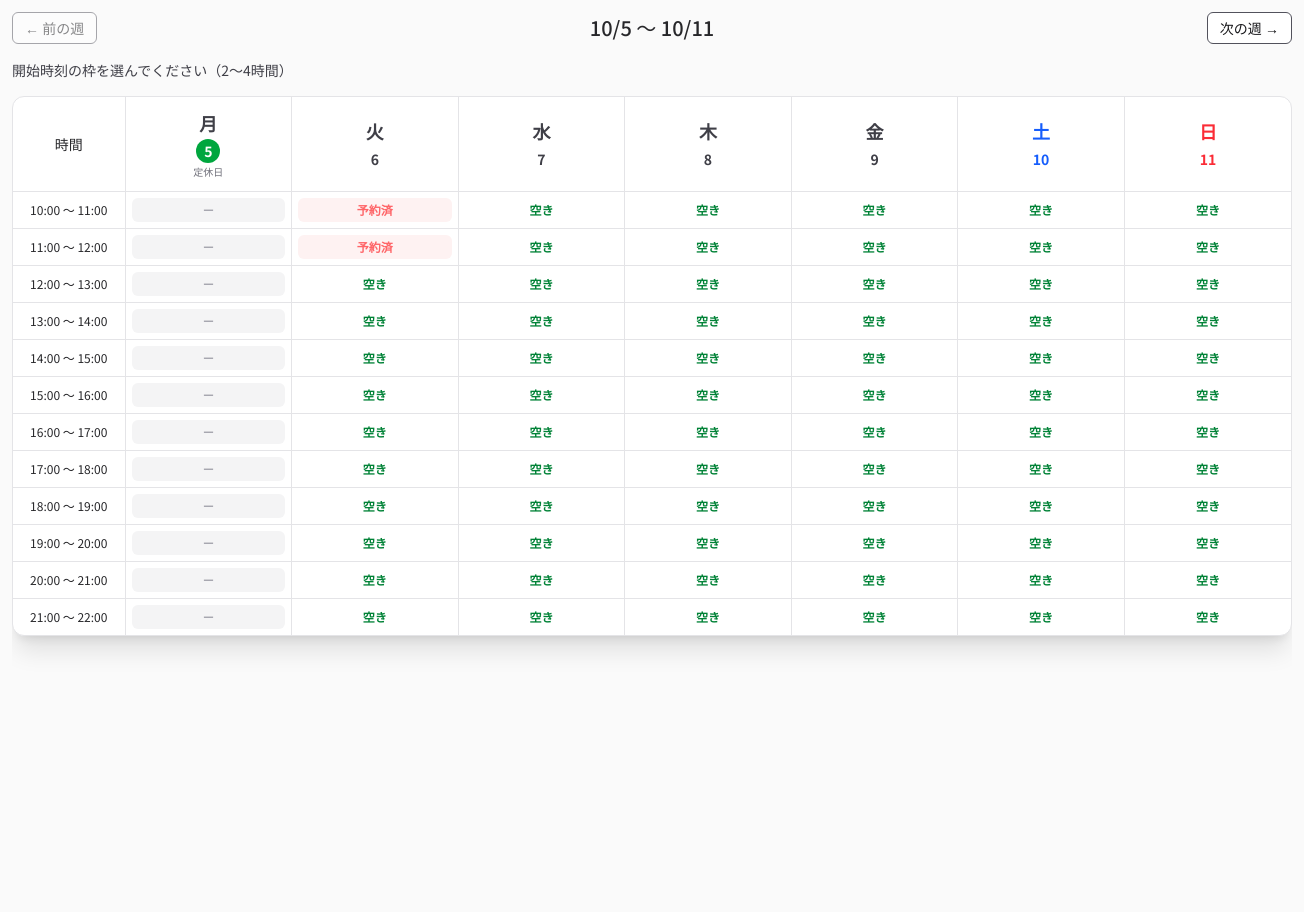
週送り › 次の週へ進むと、その週を出し、前の週へ戻れる
Step 1. Click the button "次の週 →" → [1249, 28], box [1207,12,1292,44]
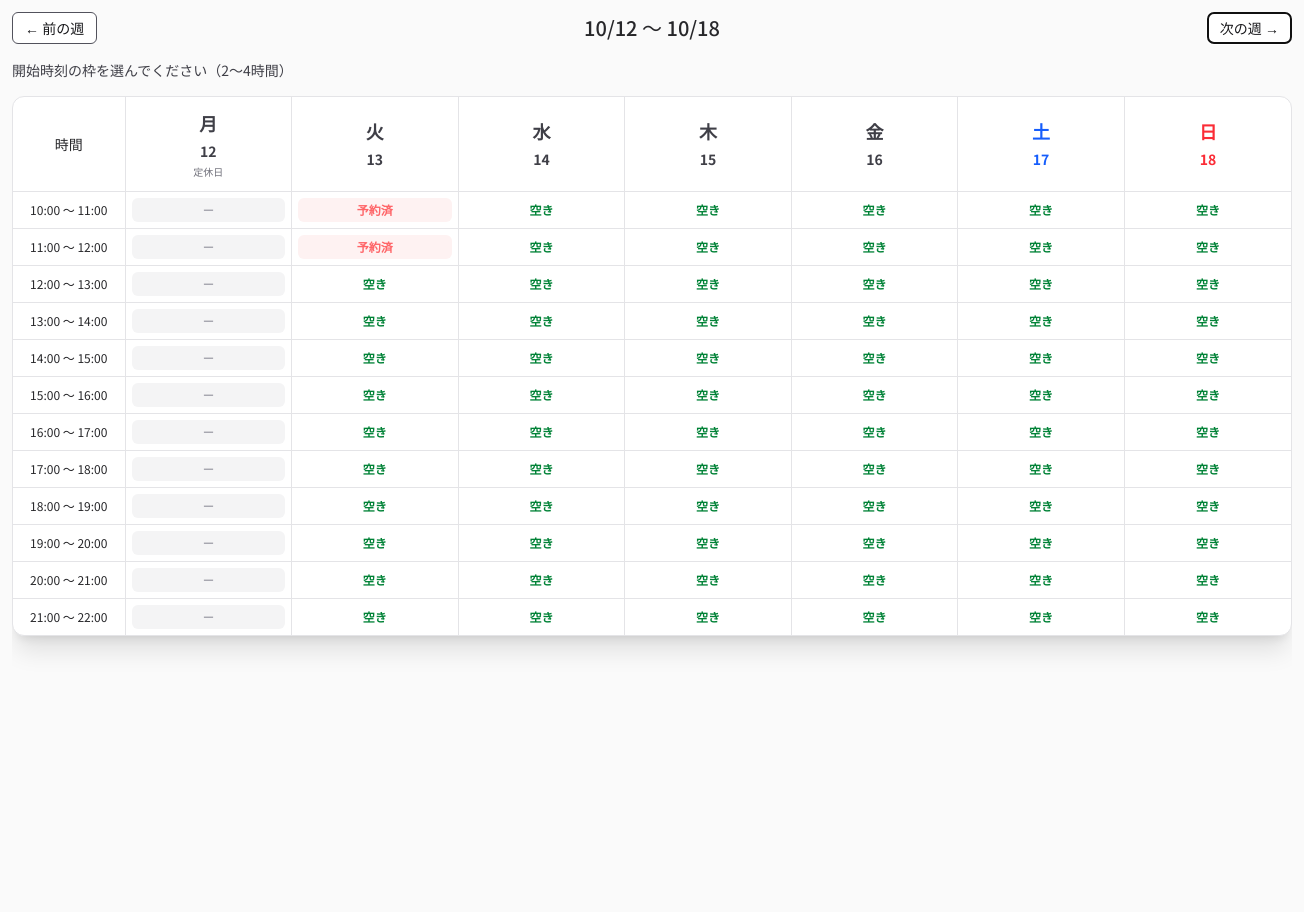
Expected: the button with aria-label "10月13日（火） 10:00 〜 11:00 予約済み" is disabled, [298,198,452,222]
Expected: the text "10/12 〜 10/18" is shown, [584,14,720,42]
Expected: the button "← 前の週" is enabled, [12,12,97,44]
